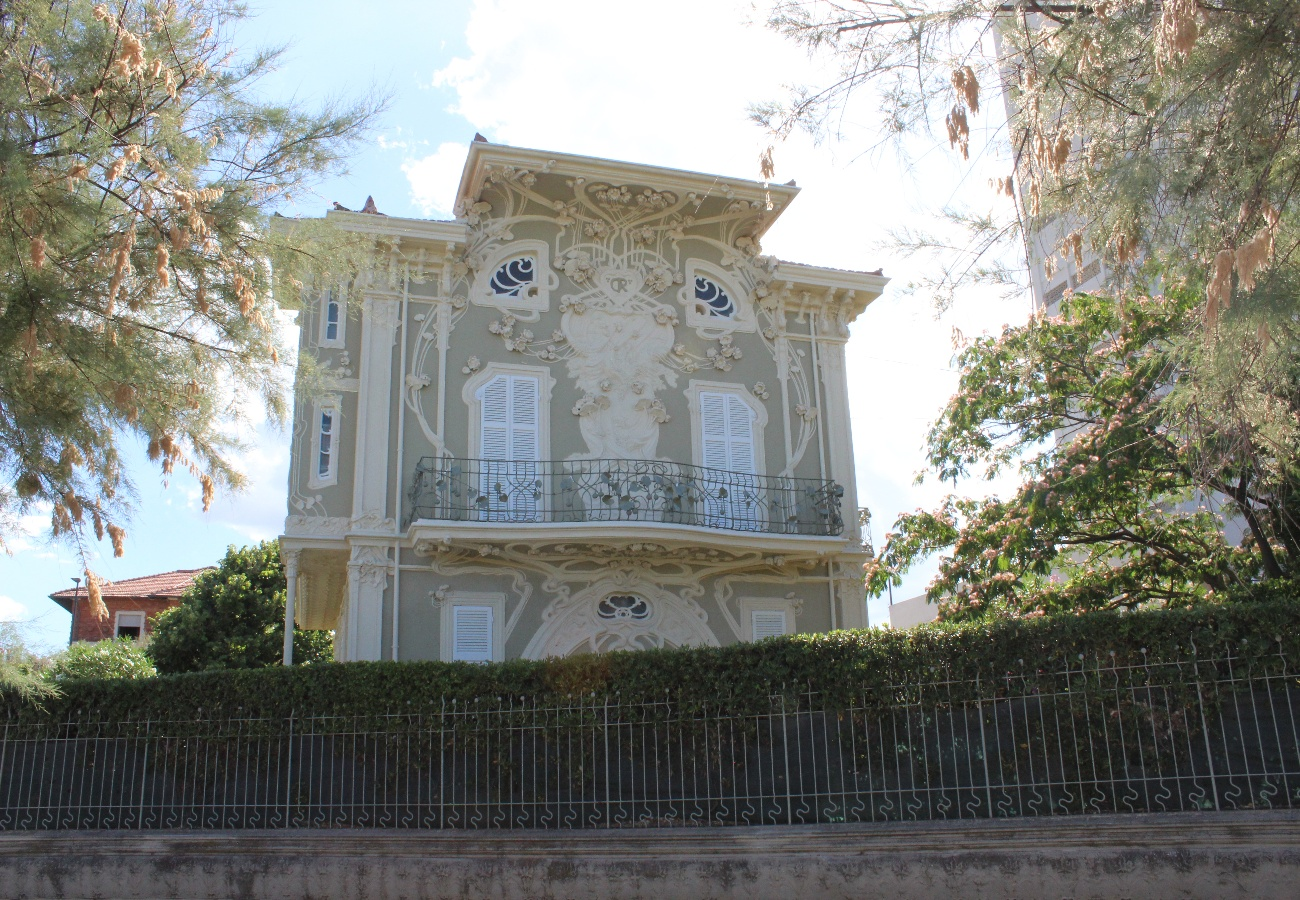Villino Ruggeri: (269, 137, 896, 775)
